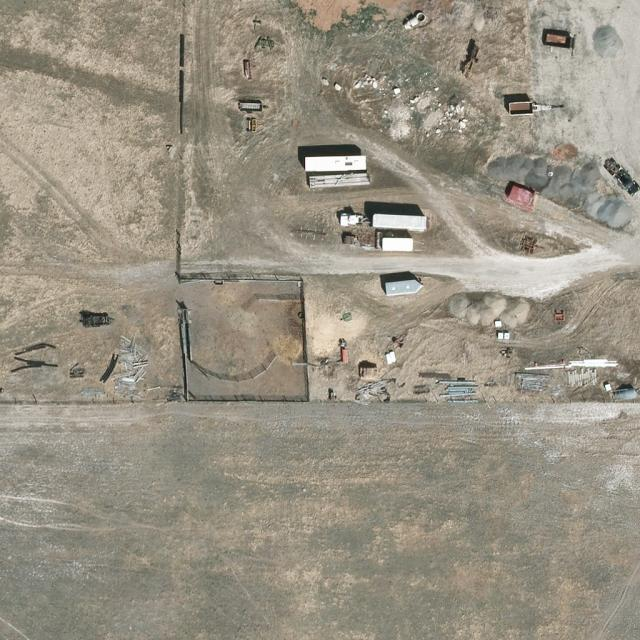vehicle: (338, 212, 428, 230), (603, 158, 640, 196)
